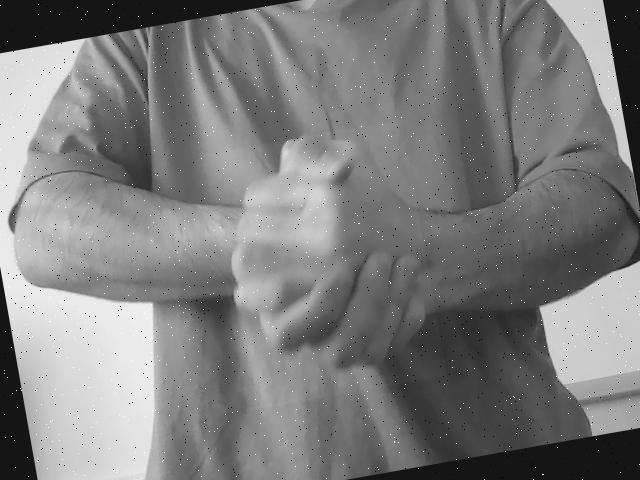friend: (224, 133, 438, 382)
